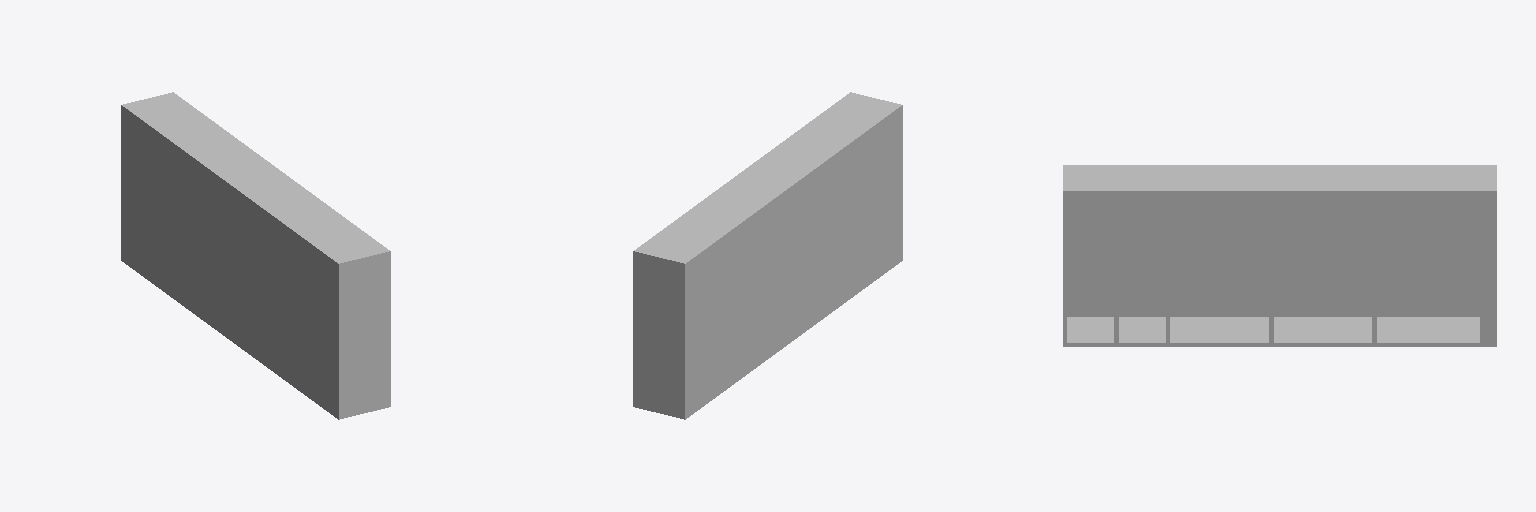
File: clf_shelf_old.obj
3 renders of one model, left to right at view 1: azimuth 30°, elevation 25°; view 2: azimuth 150°, elevation 25°; view 3: azimuth 270°, elevation 25°, orthographic.
Parts seen in each view (by area): view 1: Plane; view 2: Plane; view 3: Plane.
Part boxes in pixels (x1,y1,x2,y2): Plane: (121, 92, 390, 419); Plane: (633, 92, 902, 419); Plane: (1063, 165, 1496, 346).
Size of the model in its own units: 0.28 by 0.8 by 2.02.